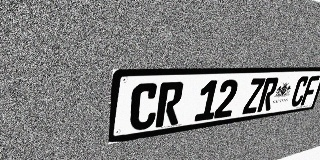1: (194, 80, 221, 122)
2: (214, 79, 239, 119)
C: (129, 83, 160, 132), (289, 76, 310, 107)
F: (300, 76, 320, 106)
R: (155, 82, 184, 128), (257, 77, 279, 112)
Z: (242, 78, 266, 114)
